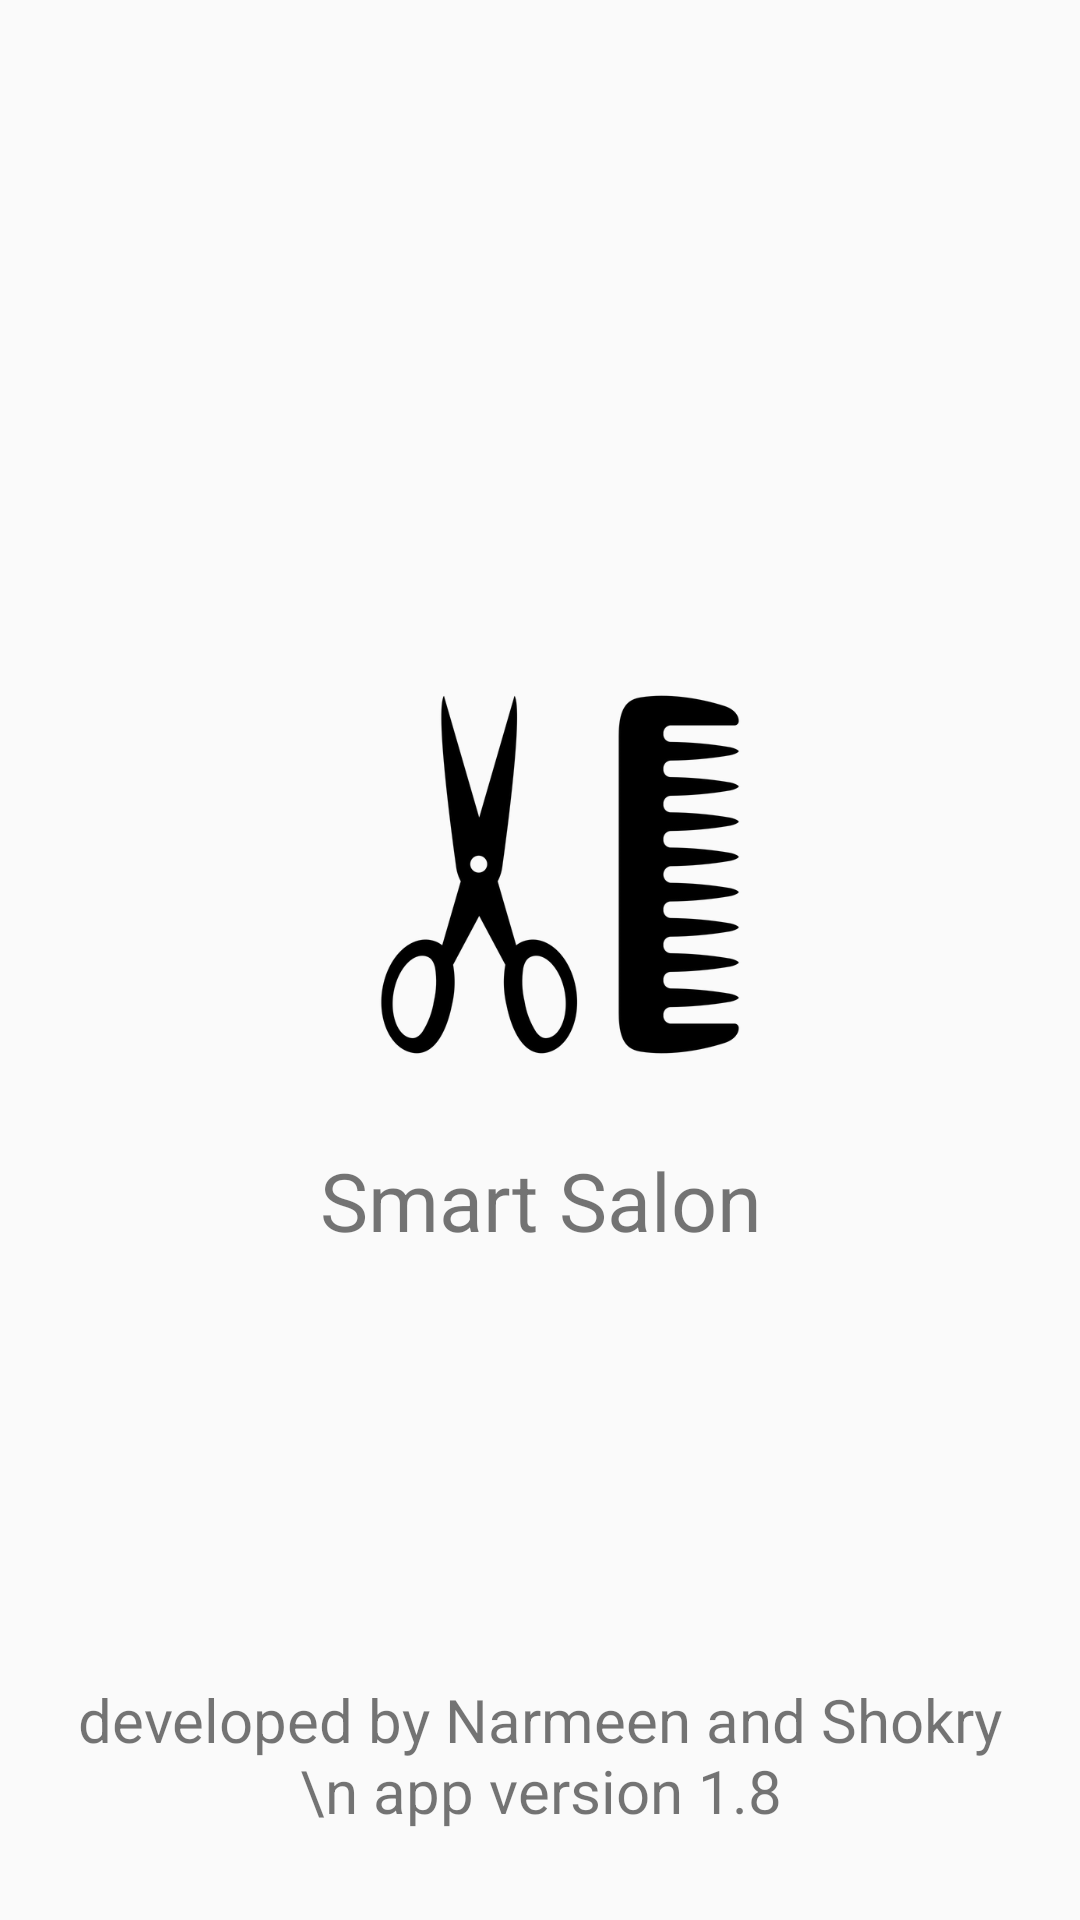

Icons on this 1080 × 1920 Android screen, each with the point to tap as [x,y]:
hair salon: [560,874]
